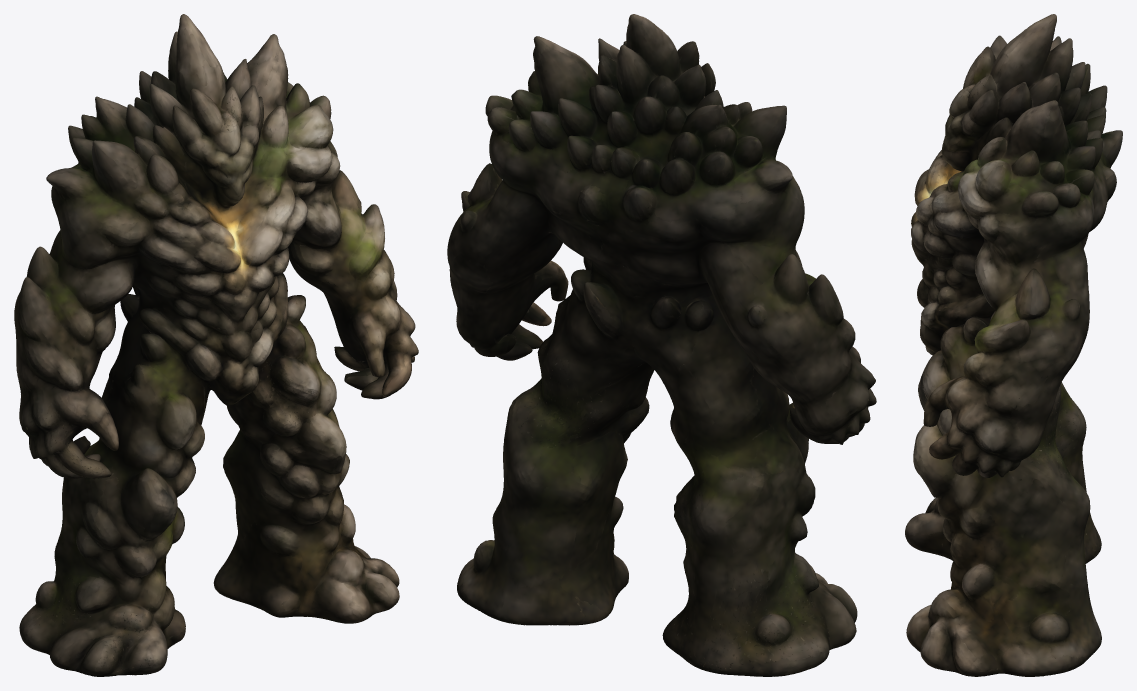
The model's file is earth_elemental.glb.
3 views of the same model, side by side, from view 1: azimuth 30°, elevation 25°; view 2: azimuth 150°, elevation 25°; view 3: azimuth 270°, elevation 25° (orthographic). The views are drawn at different scales.
Visible parts, largest first — view 1: material; view 2: material; view 3: material.
Part boxes in pixels (<box>): material: <box>14,14,418,676</box>; material: <box>447,14,876,676</box>; material: <box>905,14,1122,676</box>.
Size of the model in its own units: 0.7089 by 1.02 by 0.3482.
Materials: 1 (1 with a texture image).
